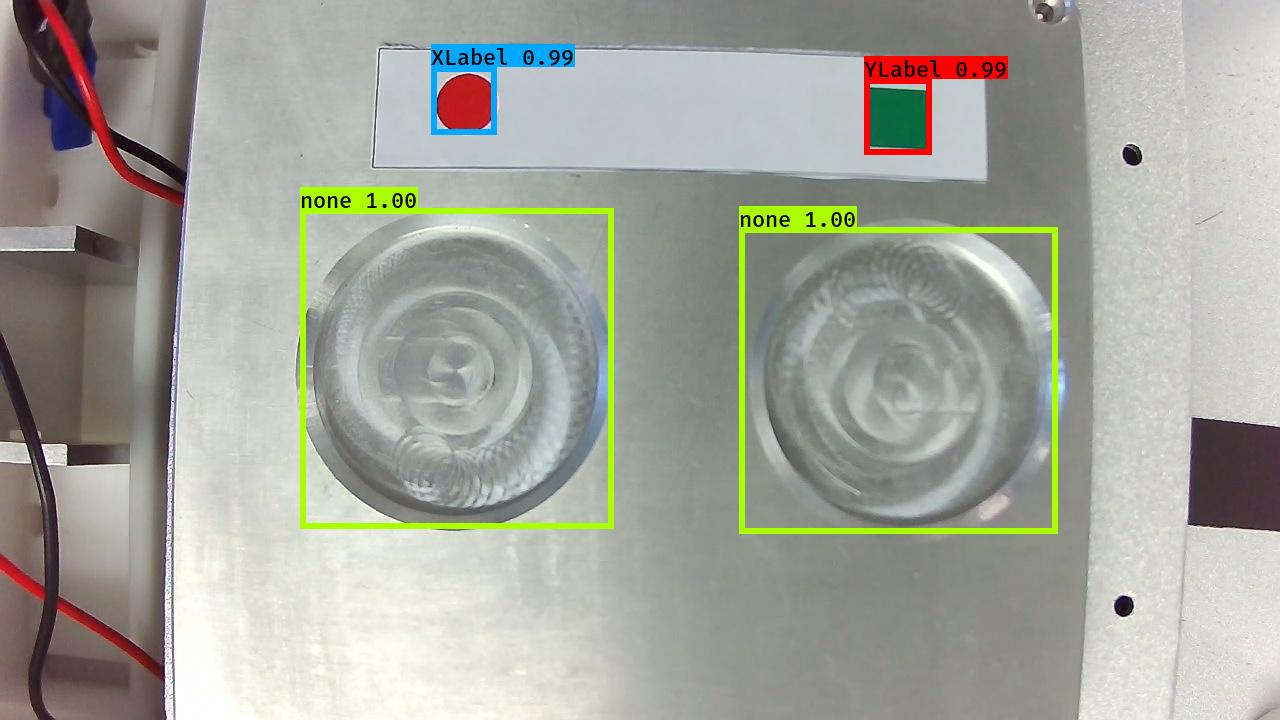XLabel: (432, 68, 499, 134)
YLabel: (865, 84, 933, 155)
none: (736, 209, 1075, 546), (284, 201, 618, 533)
